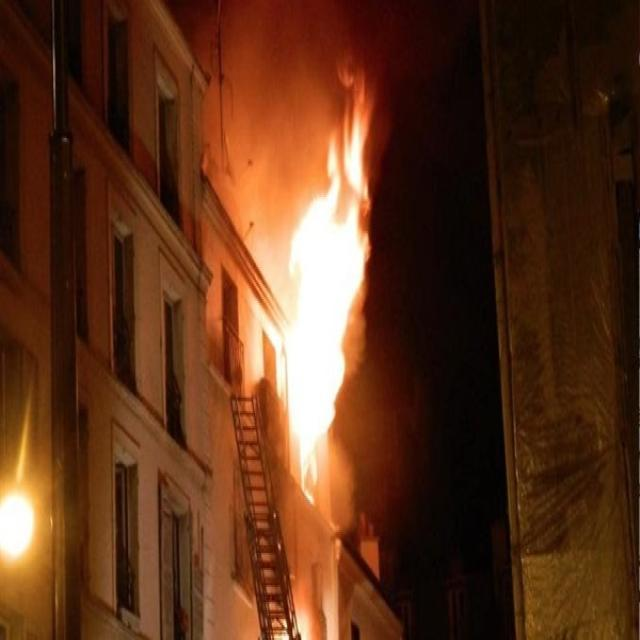Fire: (274, 81, 381, 509)
Smoke: (200, 0, 329, 232)
